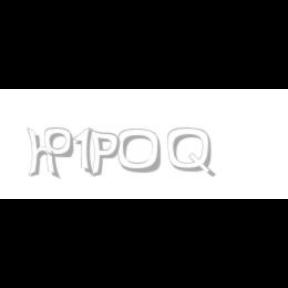1: (72, 128, 94, 176)
O: (118, 128, 162, 174)
P: (88, 128, 120, 178)
Q: (168, 128, 214, 178)
h: (26, 128, 62, 180)
o: (44, 128, 74, 158)
